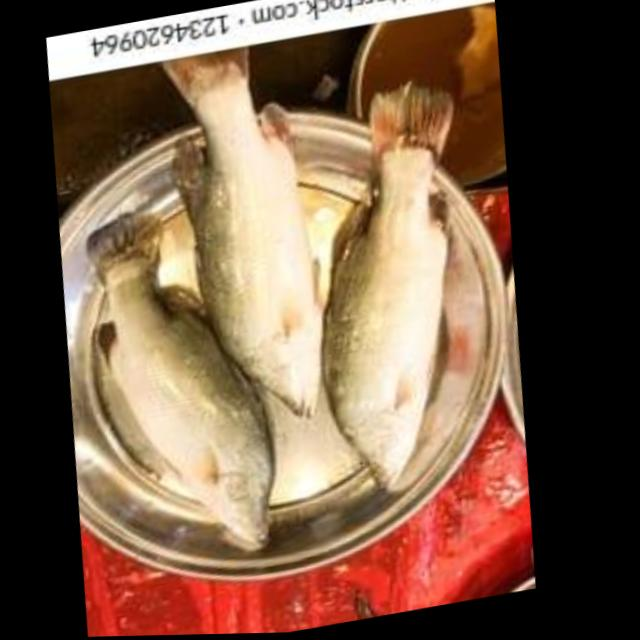Seabass: (272, 72, 519, 505), (53, 191, 315, 575), (128, 33, 366, 445)
